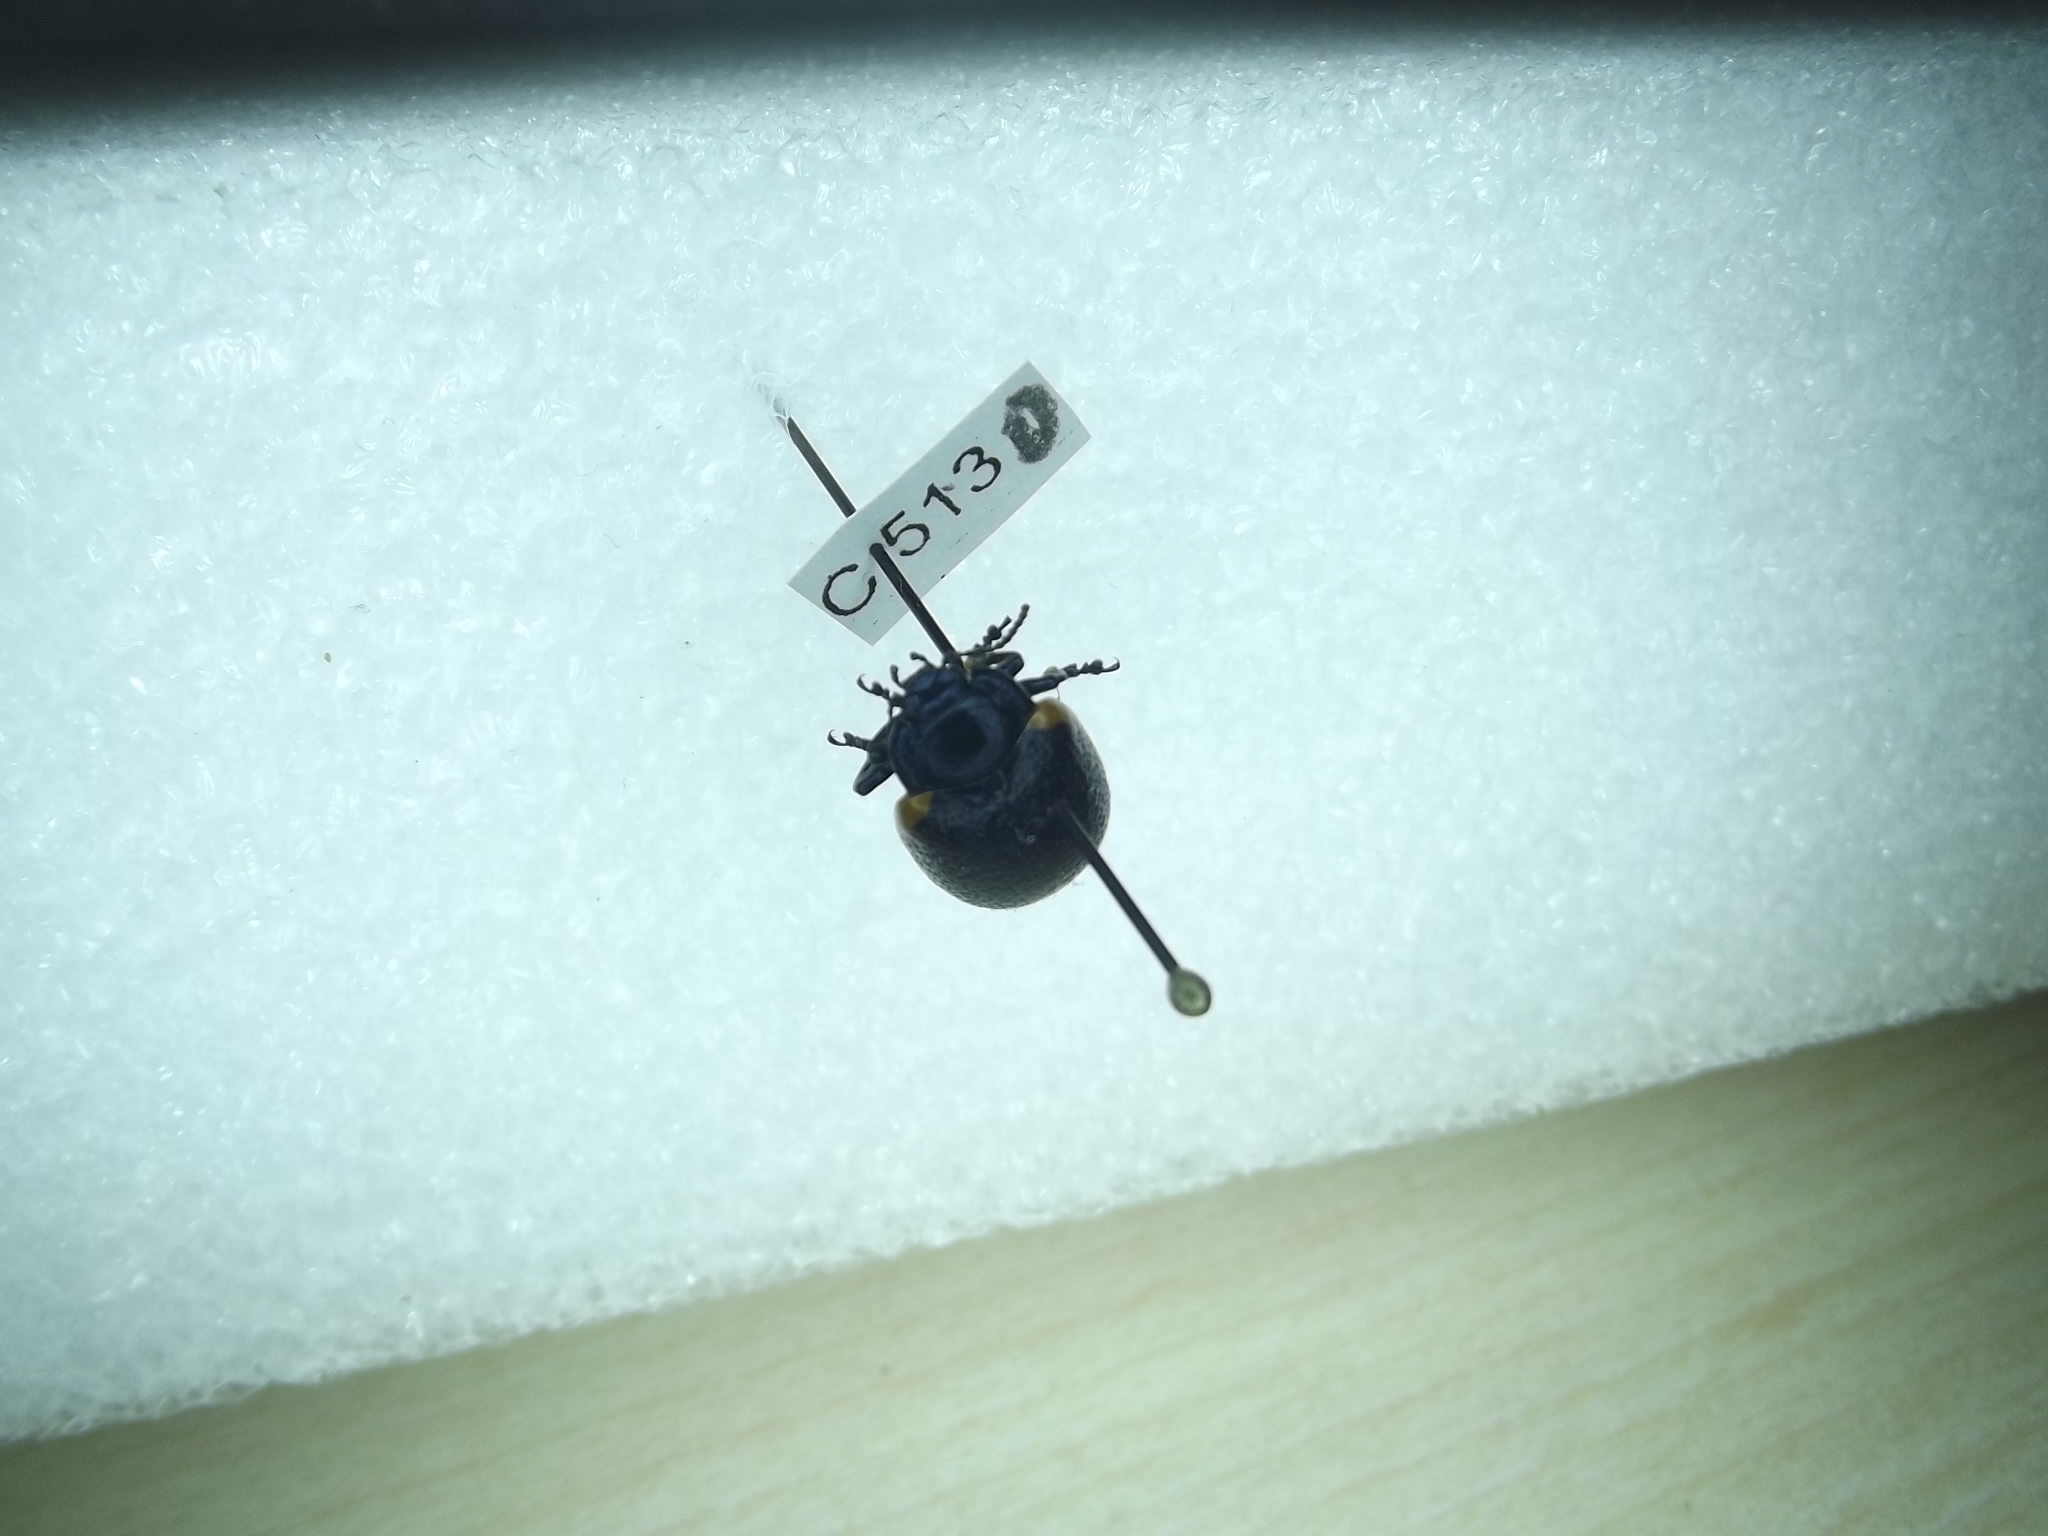Chrysolina_gypsophila: (814, 594, 1129, 920)
